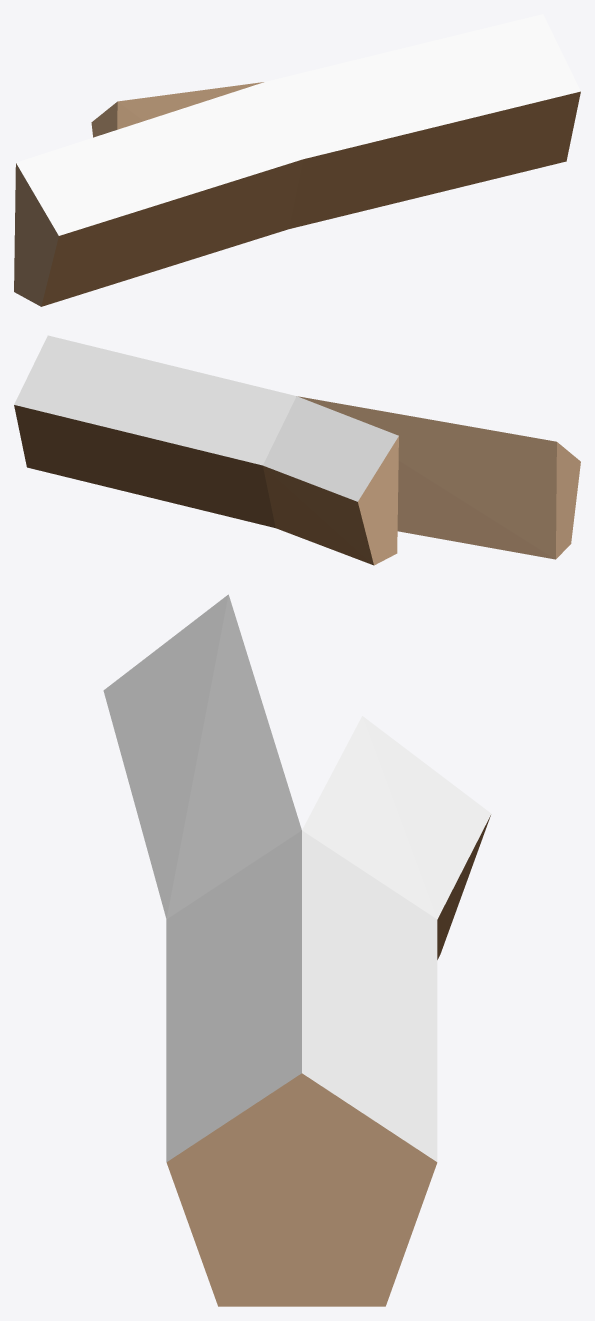
Rendered from Pine_Firewood_Snow_03.fbx.
The picture shows the model from 3 angles, top to bottom: view 1: azimuth 30°, elevation 25°; view 2: azimuth 150°, elevation 25°; view 3: azimuth 270°, elevation 25°; orthographic projection. The views are drawn at different scales.
Visible parts, largest first — view 1: Pine_Firewood_Snow_03; view 2: Pine_Firewood_Snow_03; view 3: Pine_Firewood_Snow_03.
Part boxes in pixels (bbox=[...]): Pine_Firewood_Snow_03: bbox=[14, 14, 580, 306]; Pine_Firewood_Snow_03: bbox=[14, 335, 580, 565]; Pine_Firewood_Snow_03: bbox=[103, 594, 491, 1306].
Bounding box in the file's own units: 55.27 × 12.56 × 18.91.
